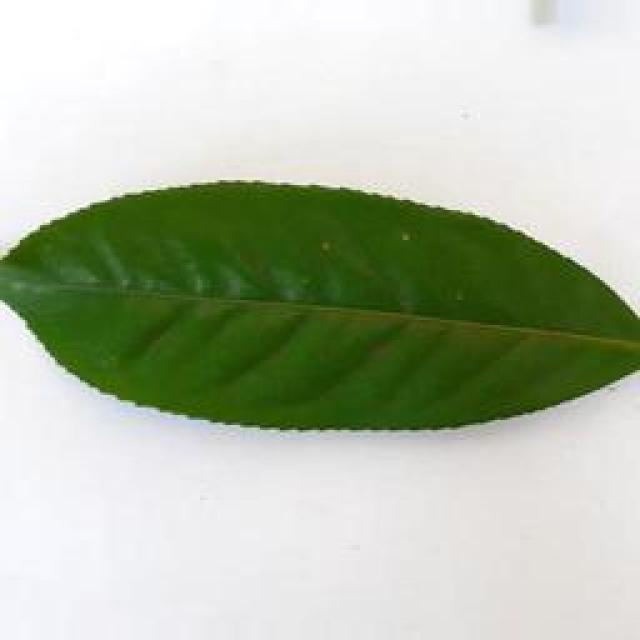Healthy: (6, 178, 640, 433)
